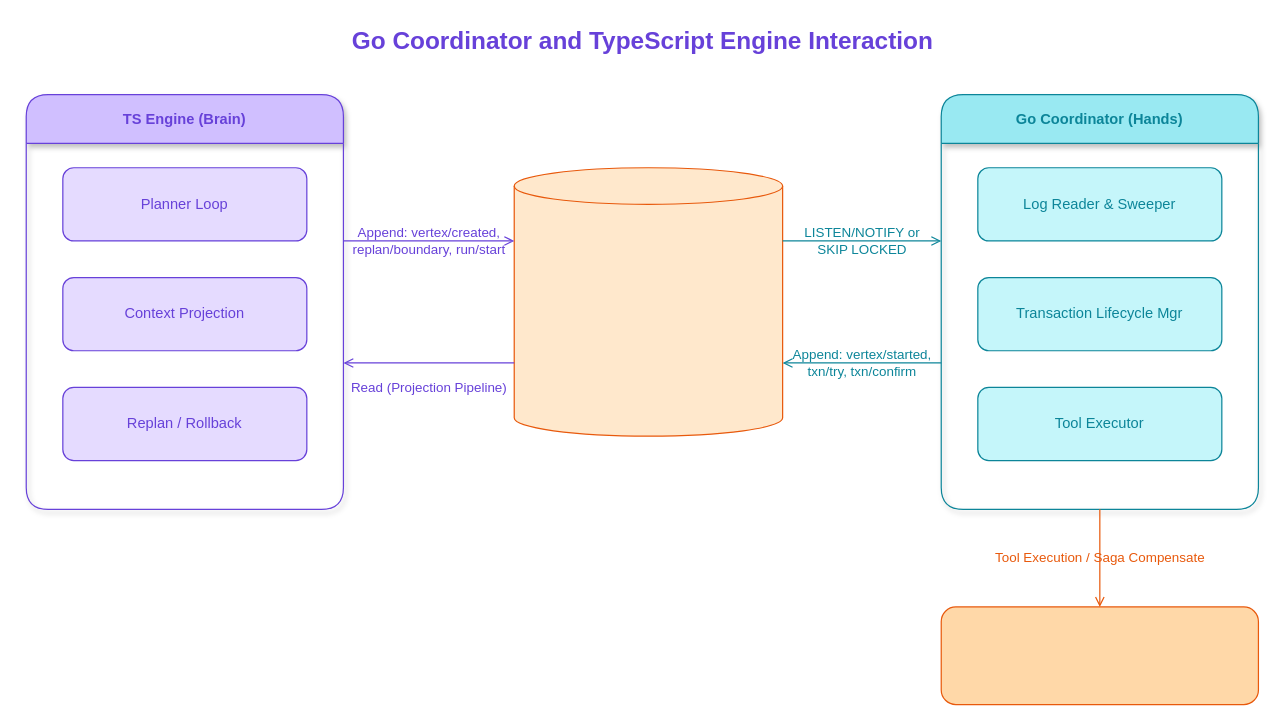
The diagram is 1287 pixels wide and 726 high, and some of its shapes have lost their labels. Each missing label, with the centre of its shape:
"External Business Systems (Inventory, Payment, Logistics)" goes at pixel 1099 655.
"PostgreSQL Event Log (The Boundary)" goes at pixel 648 301.
